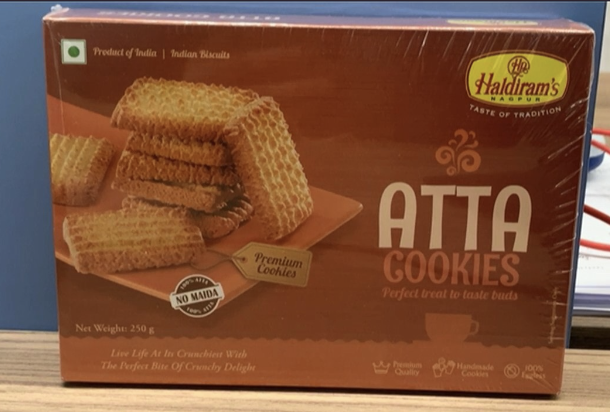cookies_200g-299g: (57, 41, 552, 385)
